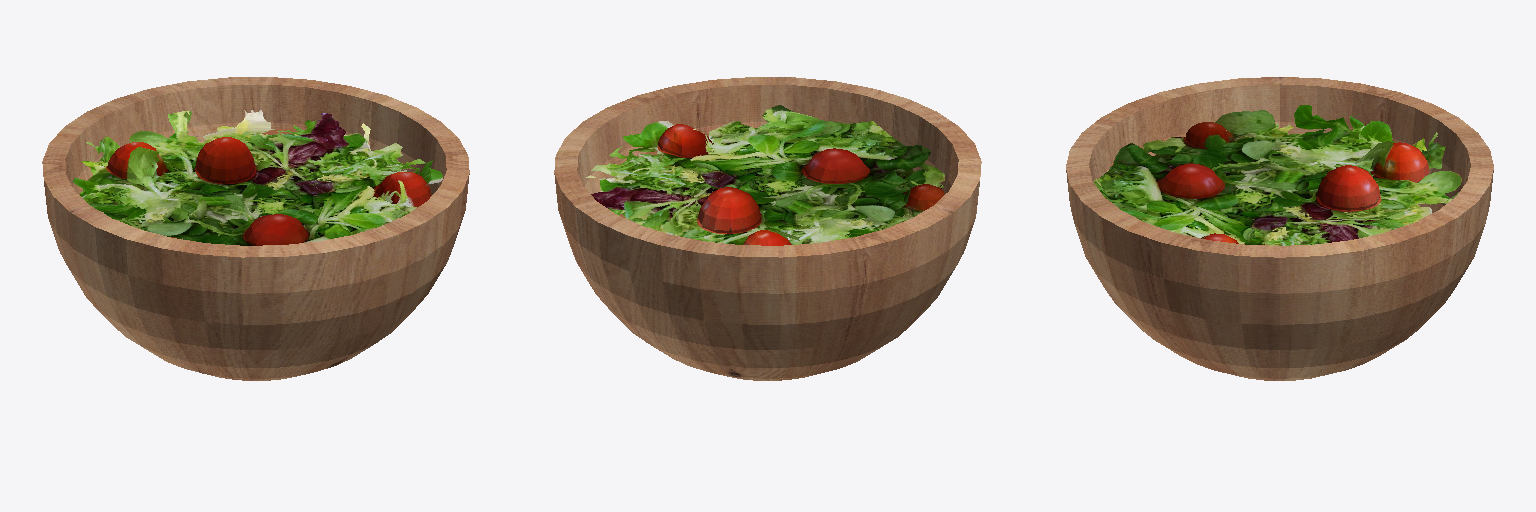
The picture shows the model from 3 angles: view 1: azimuth 30°, elevation 25°; view 2: azimuth 150°, elevation 25°; view 3: azimuth 270°, elevation 25°; orthographic projection.
Visible parts, largest first — view 1: bowl_Sphere.001, saladBase_Plane, tomatoes_Sphere, leaves_Plane.002; view 2: bowl_Sphere.001, saladBase_Plane, tomatoes_Sphere; view 3: bowl_Sphere.001, saladBase_Plane, tomatoes_Sphere, leaves_Plane.002.
Part boxes in pixels (x1,y1,x2,y2): bowl_Sphere.001: (42,77,469,380); saladBase_Plane: (79,109,442,245); tomatoes_Sphere: (107,137,431,245); leaves_Plane.002: (73,136,158,193); bowl_Sphere.001: (554,77,981,380); saladBase_Plane: (586,105,944,244); tomatoes_Sphere: (658,124,944,245); bowl_Sphere.001: (1066,77,1493,380); saladBase_Plane: (1094,105,1461,245); tomatoes_Sphere: (1158,122,1429,243); leaves_Plane.002: (1345,121,1445,168).
Size of the model in its own units: 24.96 by 11.68 by 24.96.
Materials: 3 (2 with a texture image).